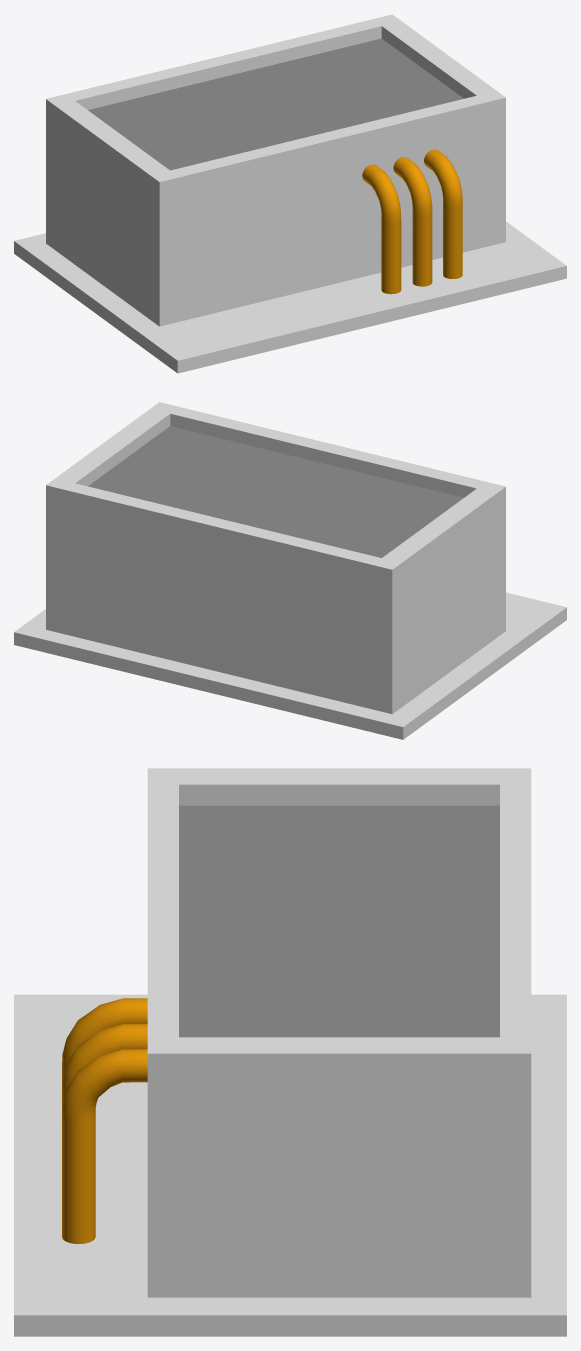
The model's file is PlantBase.fbx.
3 renders of one model, top to bottom at view 1: azimuth 30°, elevation 25°; view 2: azimuth 150°, elevation 25°; view 3: azimuth 270°, elevation 25°, orthographic. The views are drawn at different scales.
Parts seen in each view (by area): view 1: pasted__pCube29, pasted__pCube26, pasted__pCylinder14, pasted__pCylinder13, pasted__pCylinder15; view 2: pasted__pCube29, pasted__pCube26; view 3: pasted__pCube29, pasted__pCube26, pasted__pCylinder15, pasted__pCylinder13, pasted__pCylinder14.
Part boxes in pixels (x1,y1,x2,y2): pasted__pCube29: (46,14,505,326); pasted__pCube26: (14,221,566,373); pasted__pCylinder14: (393,157,432,286); pasted__pCylinder13: (362,164,401,294); pasted__pCylinder15: (424,149,462,278); pasted__pCube29: (46,402,505,714); pasted__pCube26: (14,592,566,739); pasted__pCube29: (147,768,531,1297); pasted__pCube26: (14,994,566,1336); pasted__pCylinder15: (62,1049,147,1243); pasted__pCylinder13: (62,998,147,1087); pasted__pCylinder14: (62,1024,147,1116).
Bounding box in the file's own units: 4.09 × 1.58 × 2.98.
